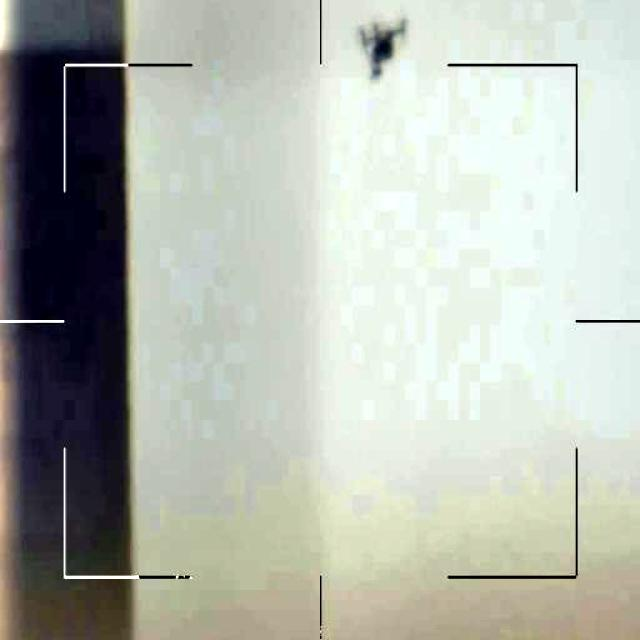bird: (354, 9, 416, 82)
